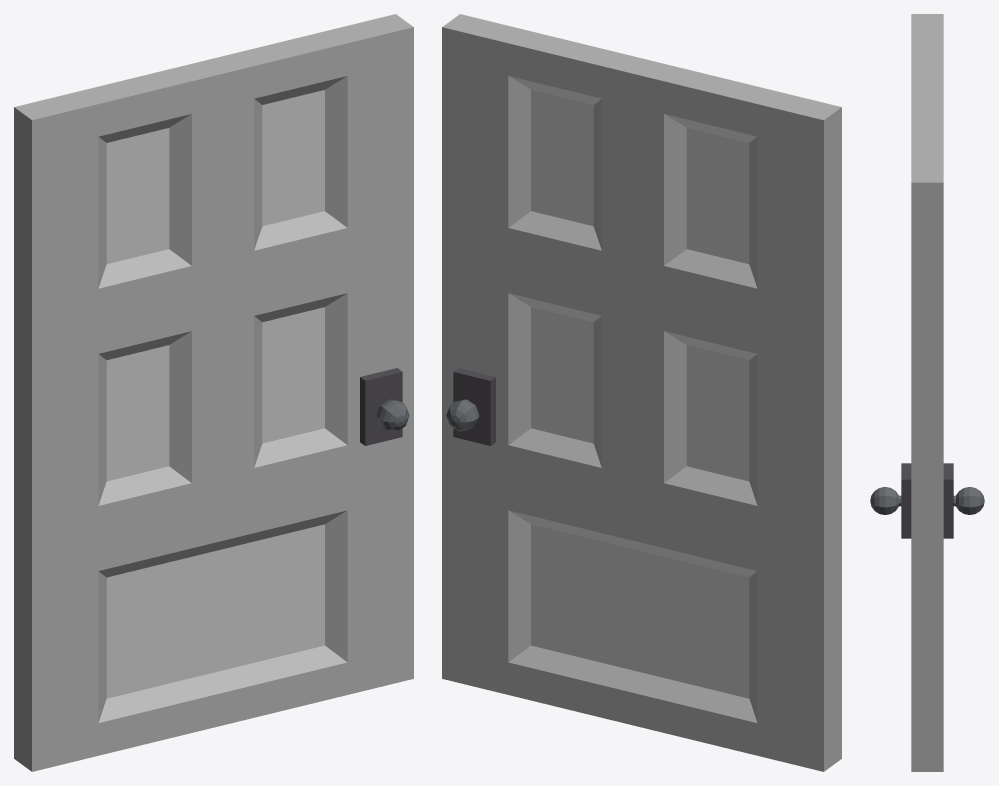
File: SM_Buildings_House_01_Door.fbx
The picture shows the model from 3 angles, left to right: view 1: azimuth 30°, elevation 25°; view 2: azimuth 150°, elevation 25°; view 3: azimuth 270°, elevation 25°; orthographic projection. The views are drawn at different scales.
Visible parts, largest first — view 1: SM_Buildings_House_01_Door; view 2: SM_Buildings_House_01_Door; view 3: SM_Buildings_House_01_Door.
Part boxes in pixels (bbox=[...]): SM_Buildings_House_01_Door: bbox=[14, 14, 413, 771]; SM_Buildings_House_01_Door: bbox=[442, 14, 841, 771]; SM_Buildings_House_01_Door: bbox=[870, 14, 984, 771].
Size of the model in its own units: 1.23 by 2 by 0.3524.
